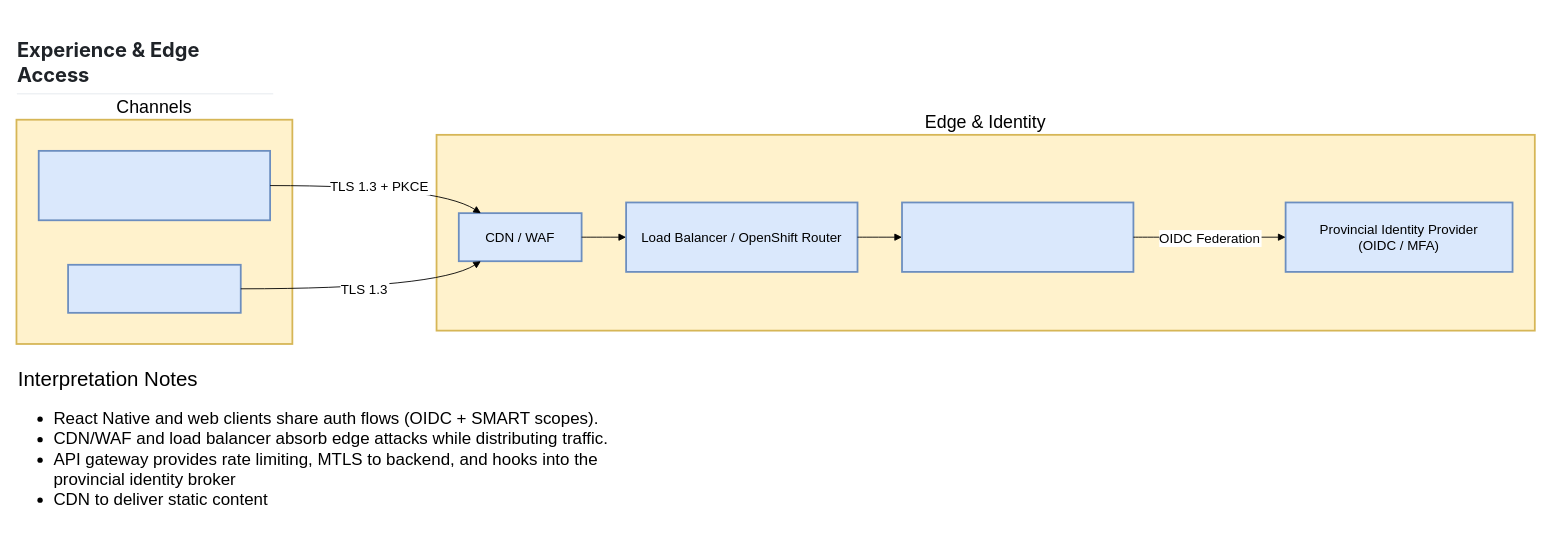
This 1550x542 diagram has some shape labels left out. Here are the shapes that lost their labels. From the top down, the centre of each, then its label:
At pixel 154 185: "React Native App (iOS/Android)".
At pixel 1017 236: "API Gateway (3scale / Kong)".
At pixel 154 288: "Next.js Web Portal".
